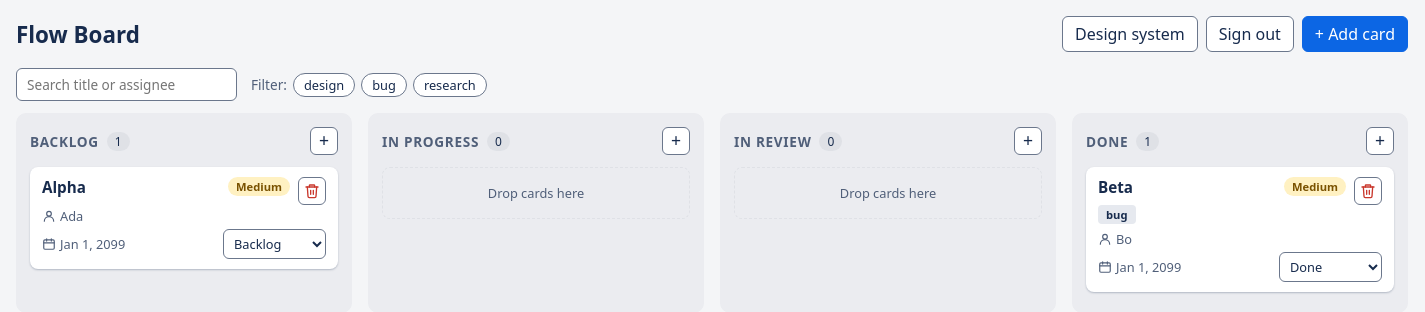
Test: search and filter › filters by tag using pressed-state toggle buttons
Check: the button "Alpha" is shown, box top-left (42, 177), bottom-right (86, 197)
Click the button "bug": [384, 84] box top-left (361, 72), bottom-right (407, 96)
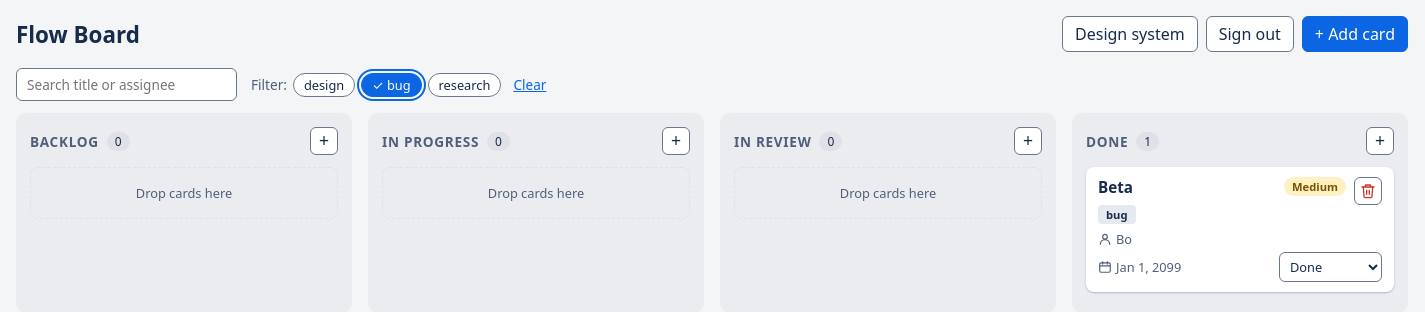
Check: the button "Beta" is shown, box top-left (1098, 177), bottom-right (1133, 197)
Check: the button "Alpha" is gone
